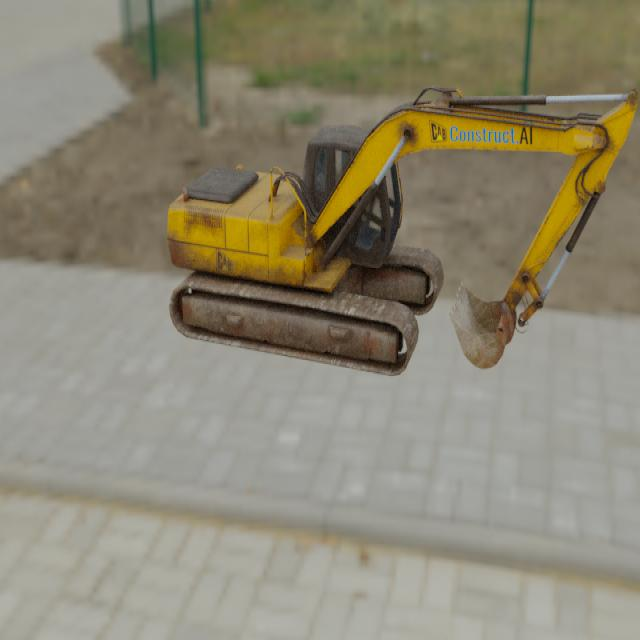excavator: (166, 84, 638, 376)
